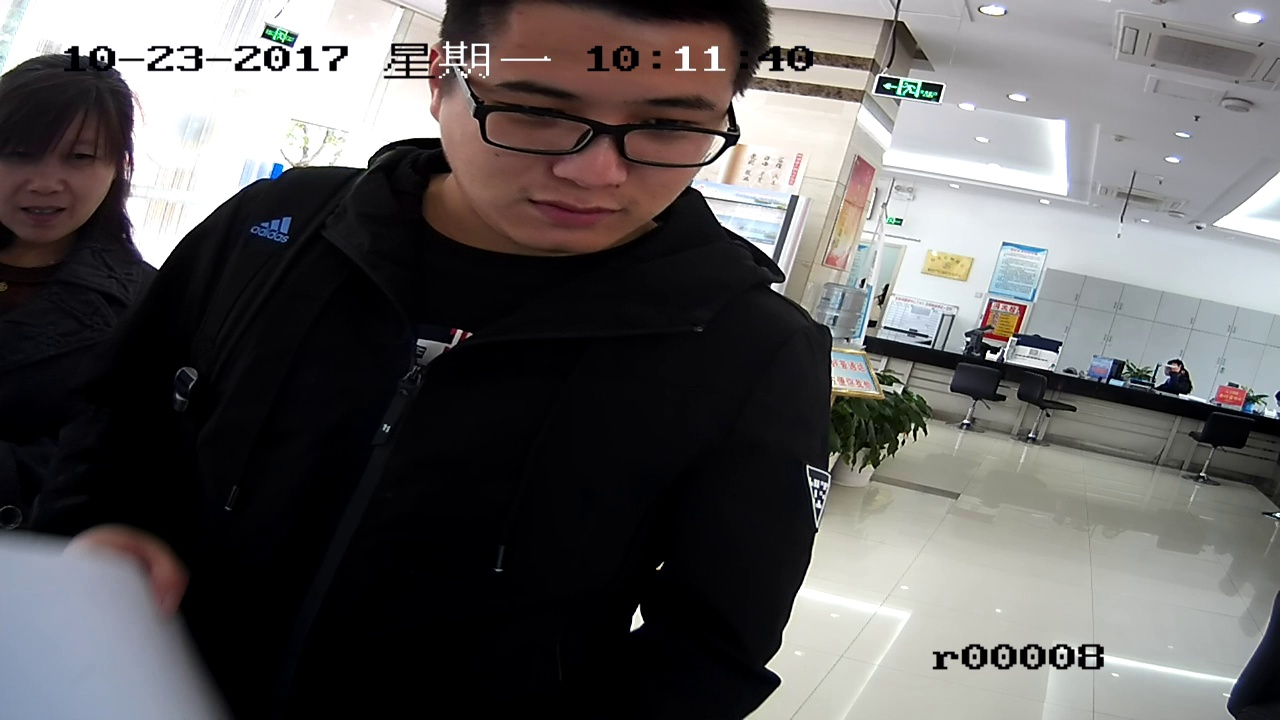billboard: (998, 245, 1032, 304), (926, 251, 968, 283), (1219, 380, 1244, 405)
chair: (1186, 412, 1255, 486), (1016, 374, 1078, 451), (951, 363, 998, 442)
person: (340, 2, 785, 563), (2, 54, 142, 265)
pot: (841, 390, 891, 489)
